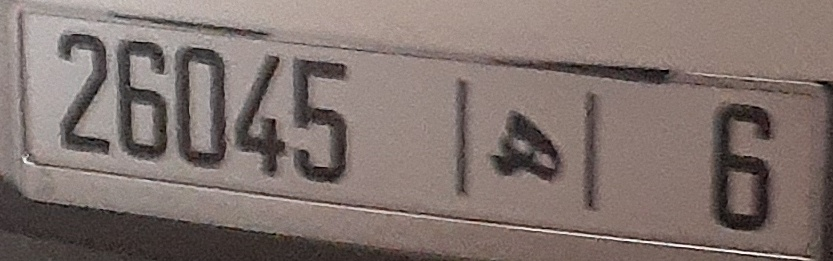0: (171, 43, 235, 173)
2: (49, 29, 115, 158)
4: (229, 53, 294, 179)
5: (291, 54, 358, 193)
6: (707, 95, 778, 239), (114, 38, 174, 167)
h: (480, 103, 566, 193)
